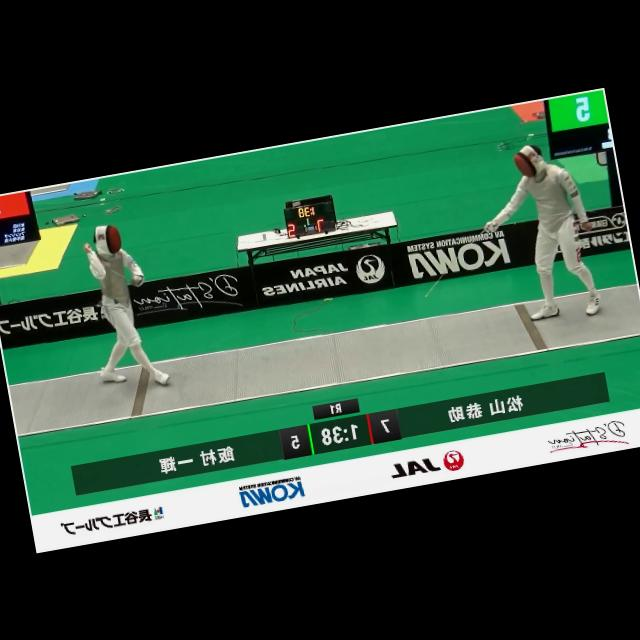blade: (406, 223, 502, 303), (83, 232, 144, 298)
